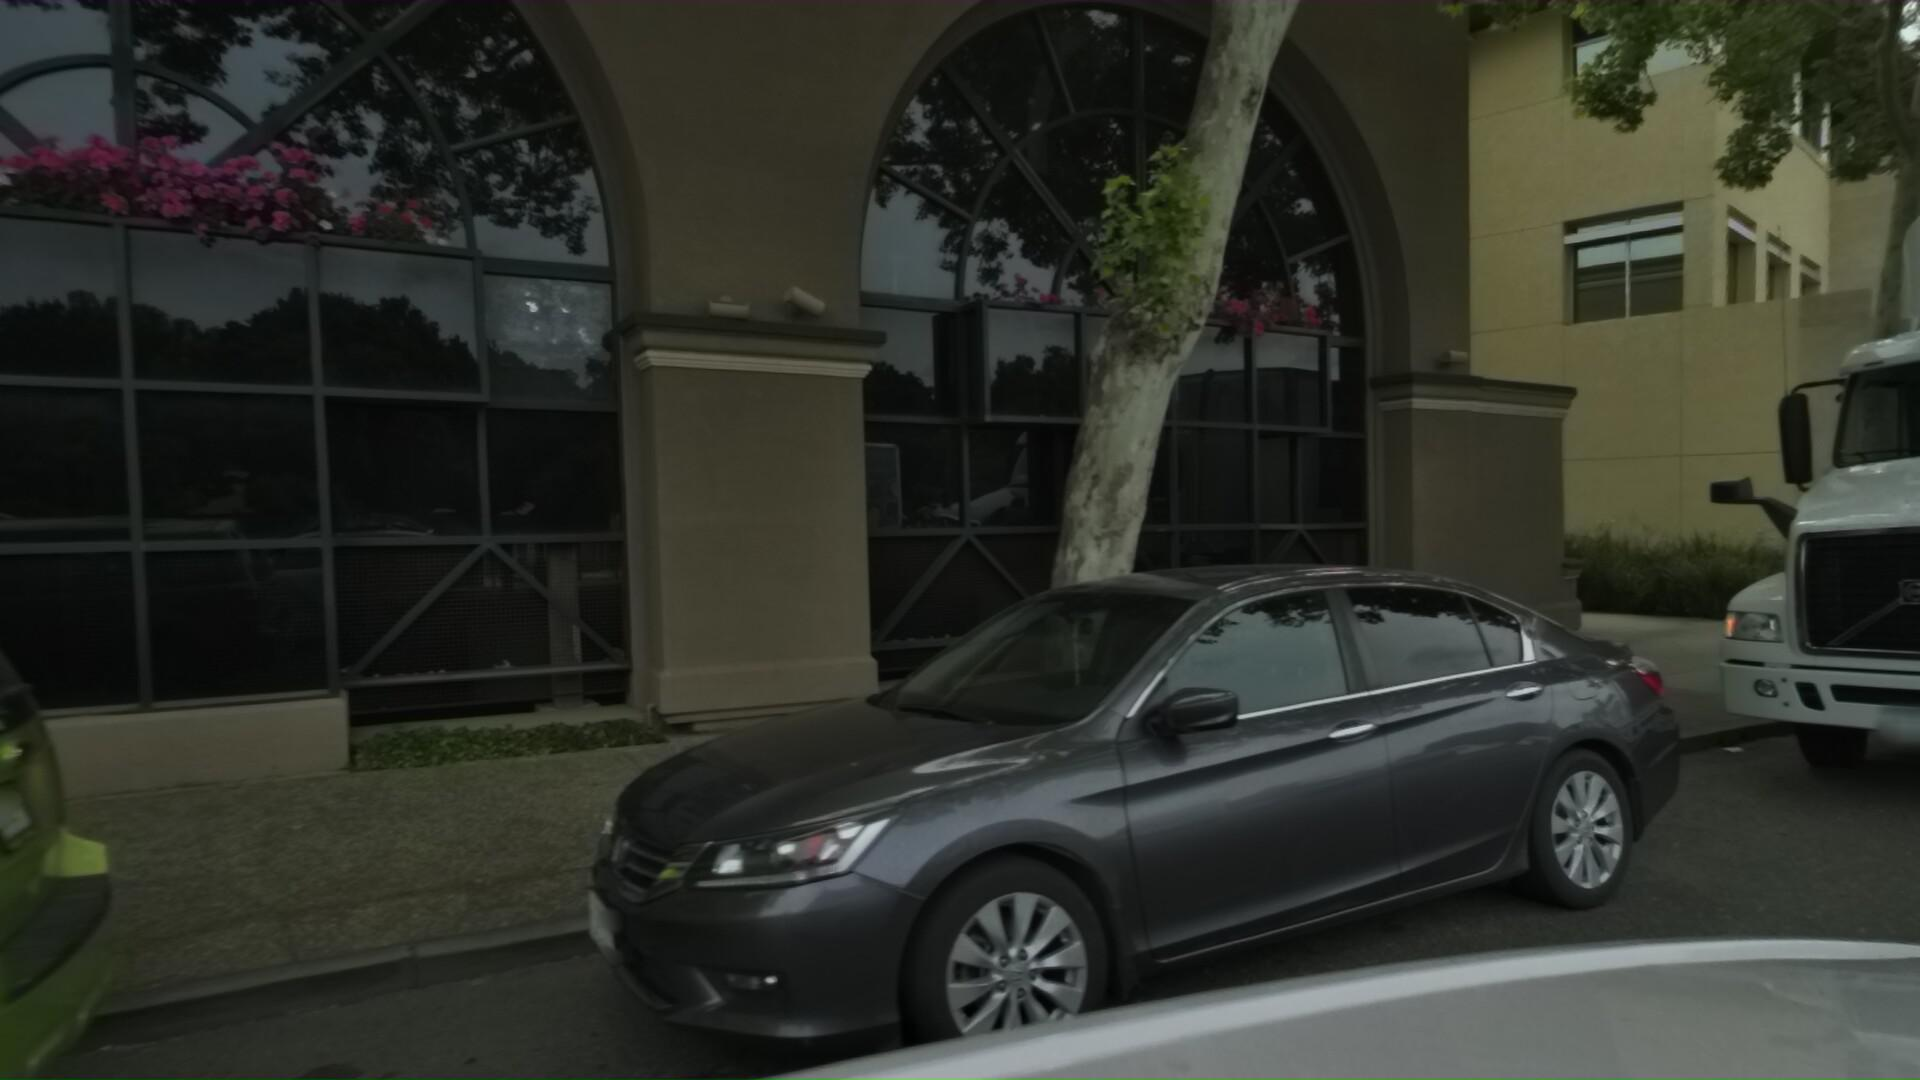car: (673, 538, 1795, 1080), (0, 516, 332, 1080)
truck: (1675, 0, 1920, 928)
